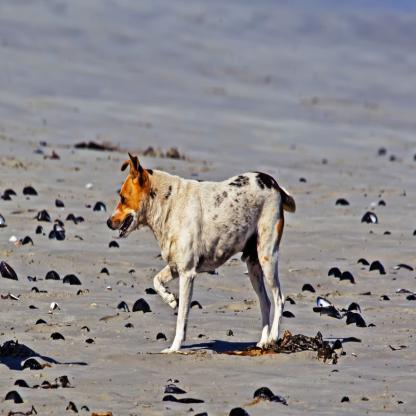dog: (103, 145, 303, 358)
injured: (138, 244, 189, 310)
